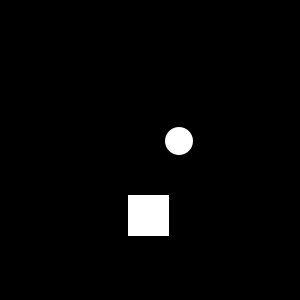circle: (128, 195, 169, 236)
rectangle: (165, 127, 193, 155)
